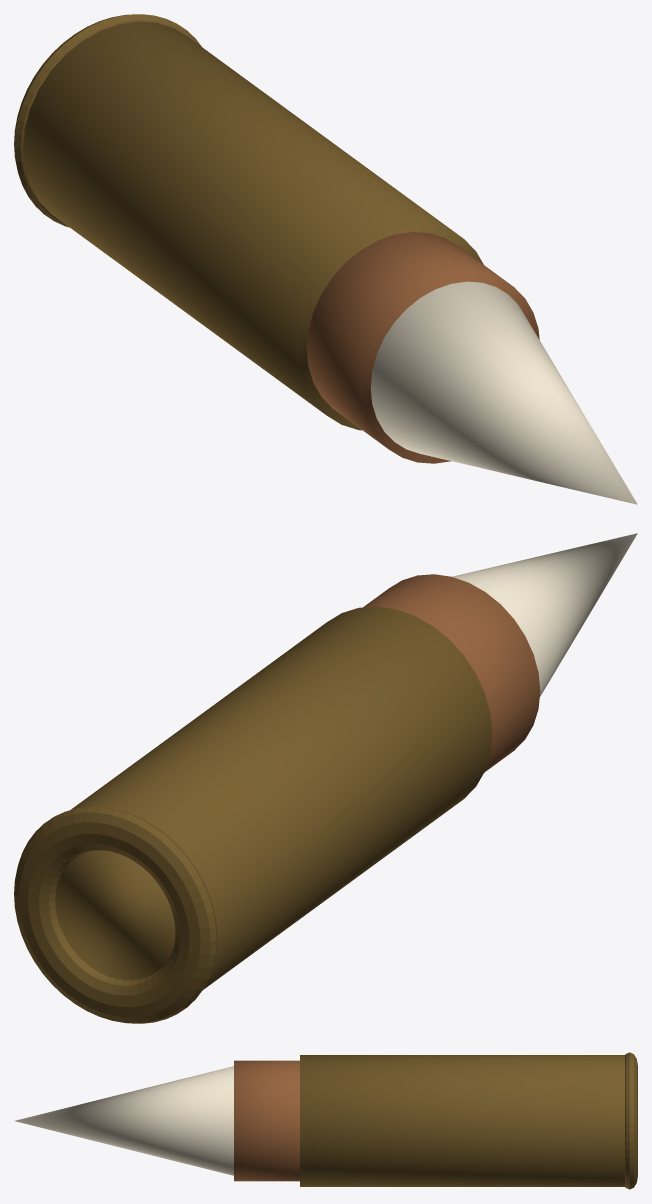
Rendered from bullet.fbx.
The picture shows the model from 3 angles, top to bottom: view 1: azimuth 30°, elevation 25°; view 2: azimuth 150°, elevation 25°; view 3: azimuth 270°, elevation 25°; orthographic projection. The views are drawn at different scales.
Visible parts, largest first — view 1: Cylinder.001; view 2: Cylinder.001; view 3: Cylinder.001.
Part boxes in pixels (bbox=[...]): Cylinder.001: bbox=[14, 14, 637, 504]; Cylinder.001: bbox=[14, 533, 637, 1023]; Cylinder.001: bbox=[15, 1052, 637, 1189].
Bounding box in the file's own units: 12.5 × 56.75 × 12.5.
